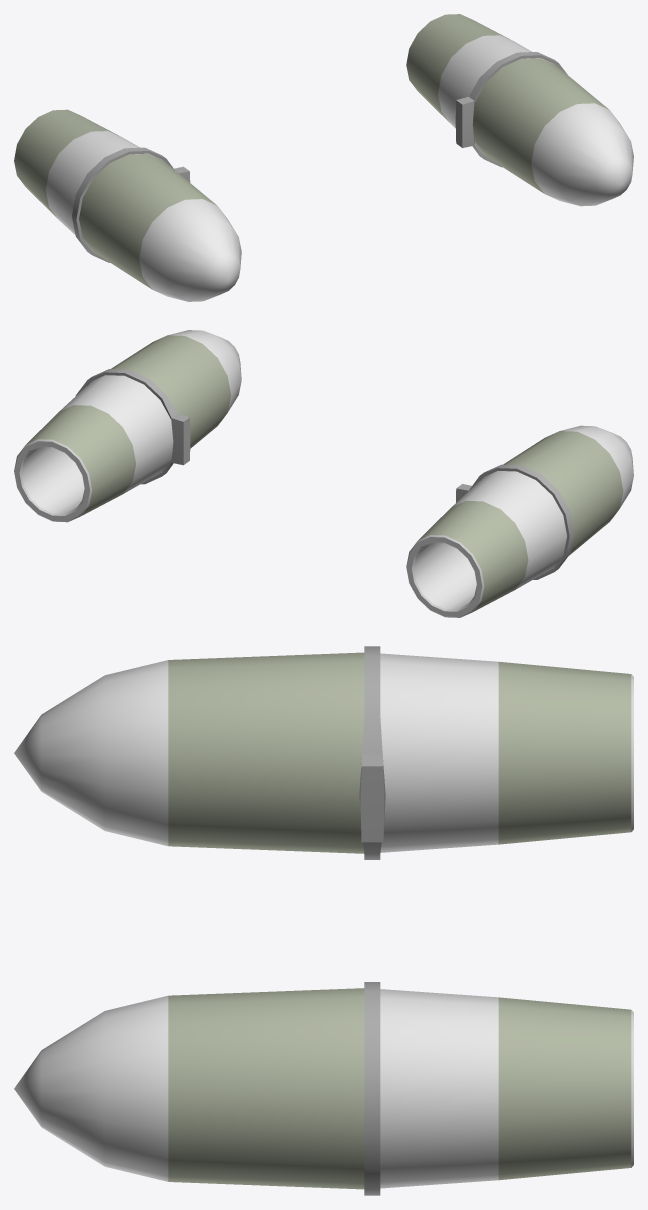
Rendered from Silnik_Wersja_Dwa.fbx.
3 views of the same model, one above another, from view 1: azimuth 30°, elevation 25°; view 2: azimuth 150°, elevation 25°; view 3: azimuth 270°, elevation 25° (orthographic). The views are drawn at different scales.
Parts seen in each view (by area): view 1: Cylinder.011, Cylinder.008, Cylinder.010, Cylinder.012; view 2: Cylinder.011, Cylinder.008, Cylinder.010, Cylinder.012; view 3: Cylinder.008, Cylinder.011, Cylinder.012, Cylinder.010.
Boxes of the visible parts, box(x1,y1,x2,y2) form: Cylinder.011: box(14, 109, 241, 301); Cylinder.008: box(406, 14, 633, 206); Cylinder.010: box(455, 52, 567, 167); Cylinder.012: box(72, 147, 190, 262); Cylinder.011: box(406, 425, 633, 617); Cylinder.008: box(14, 330, 241, 522); Cylinder.010: box(75, 369, 190, 484); Cylinder.012: box(456, 464, 574, 579); Cylinder.008: box(14, 988, 633, 1189); Cylinder.011: box(14, 652, 633, 853); Cylinder.012: box(359, 646, 385, 859); Cylinder.010: box(364, 982, 380, 1195).
Bounding box in the file's own units: 189 × 40.12 × 116.
